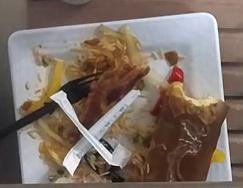bacon: (73, 64, 146, 128)
donut: (145, 82, 229, 181)
rice_mix: (66, 25, 146, 79), (72, 149, 111, 183)
